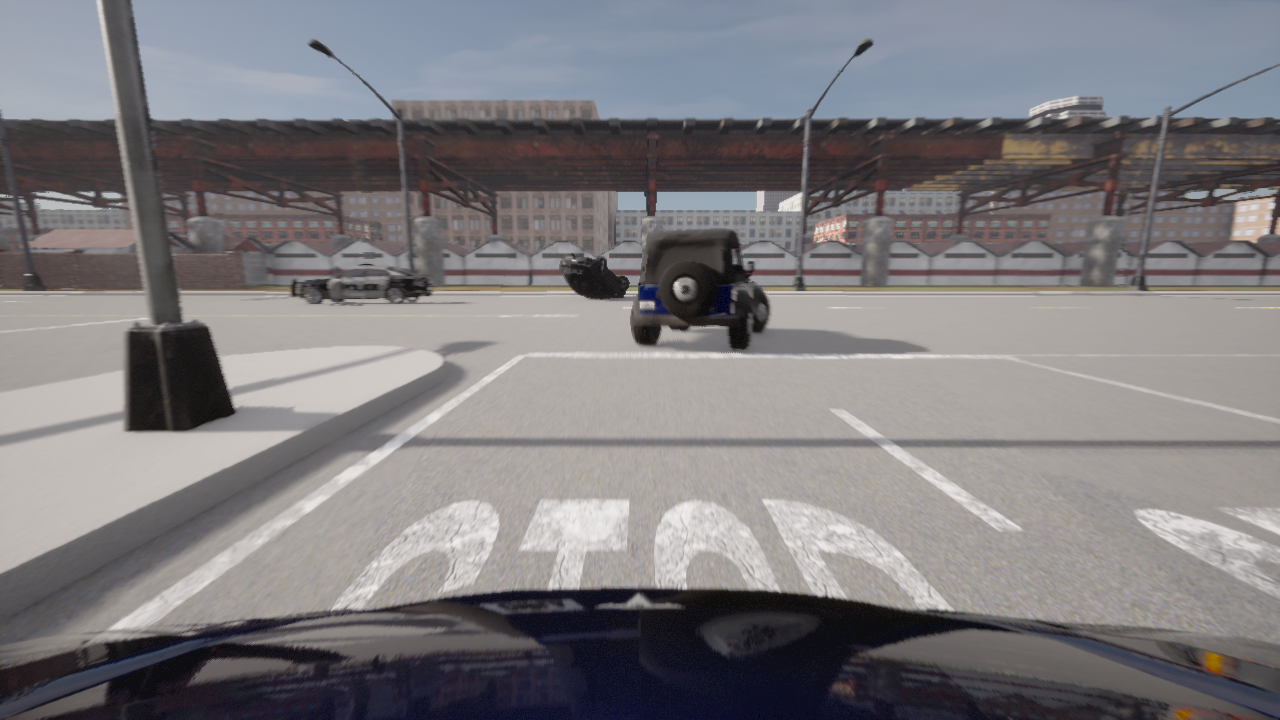cyclist: (0, 588, 1279, 719), (631, 229, 769, 349), (290, 263, 433, 304), (560, 254, 628, 298)
